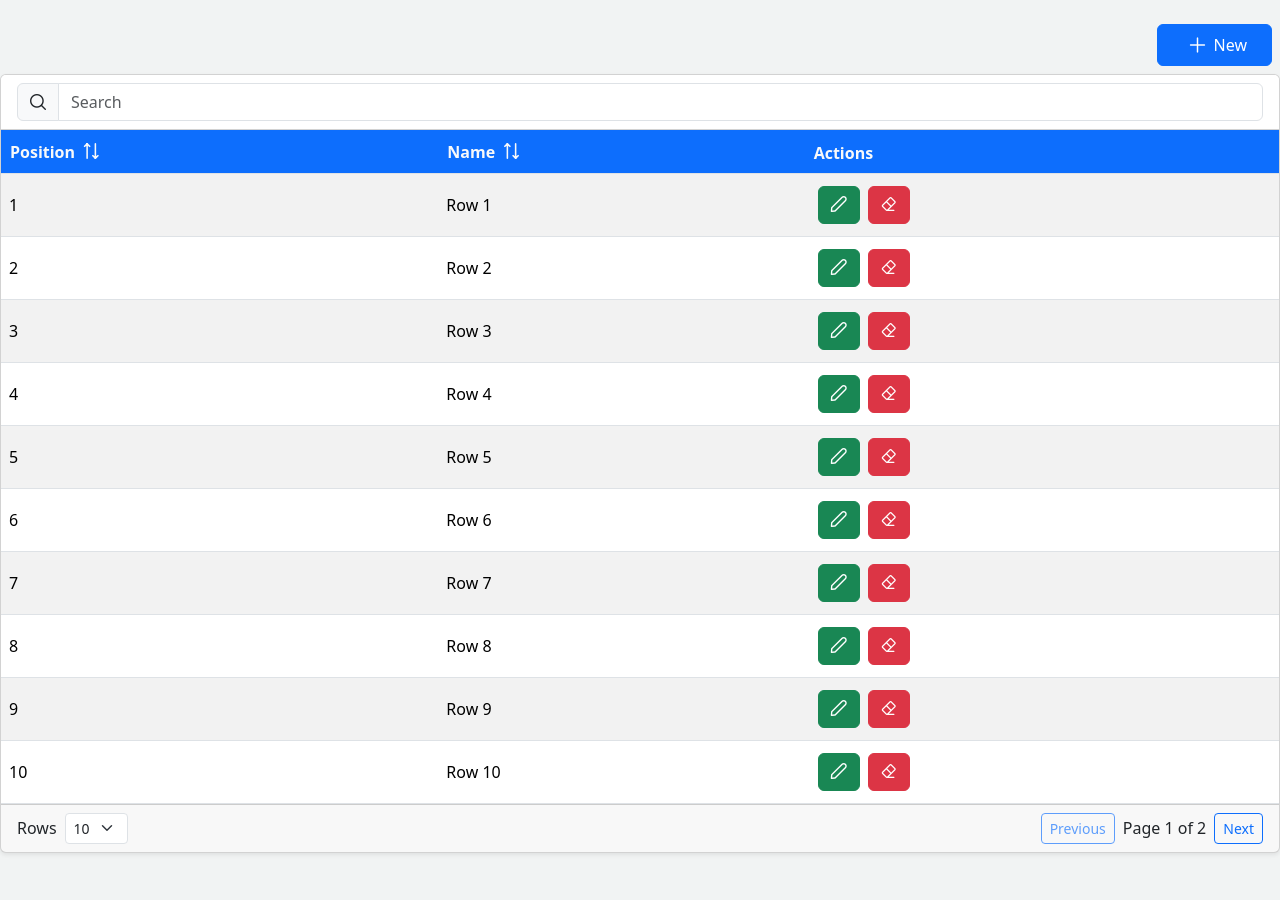
it: TableComponent › paginates and changes page size
Step 1. Click the button "Next" → (1239, 828), box [1214,813,1263,844]
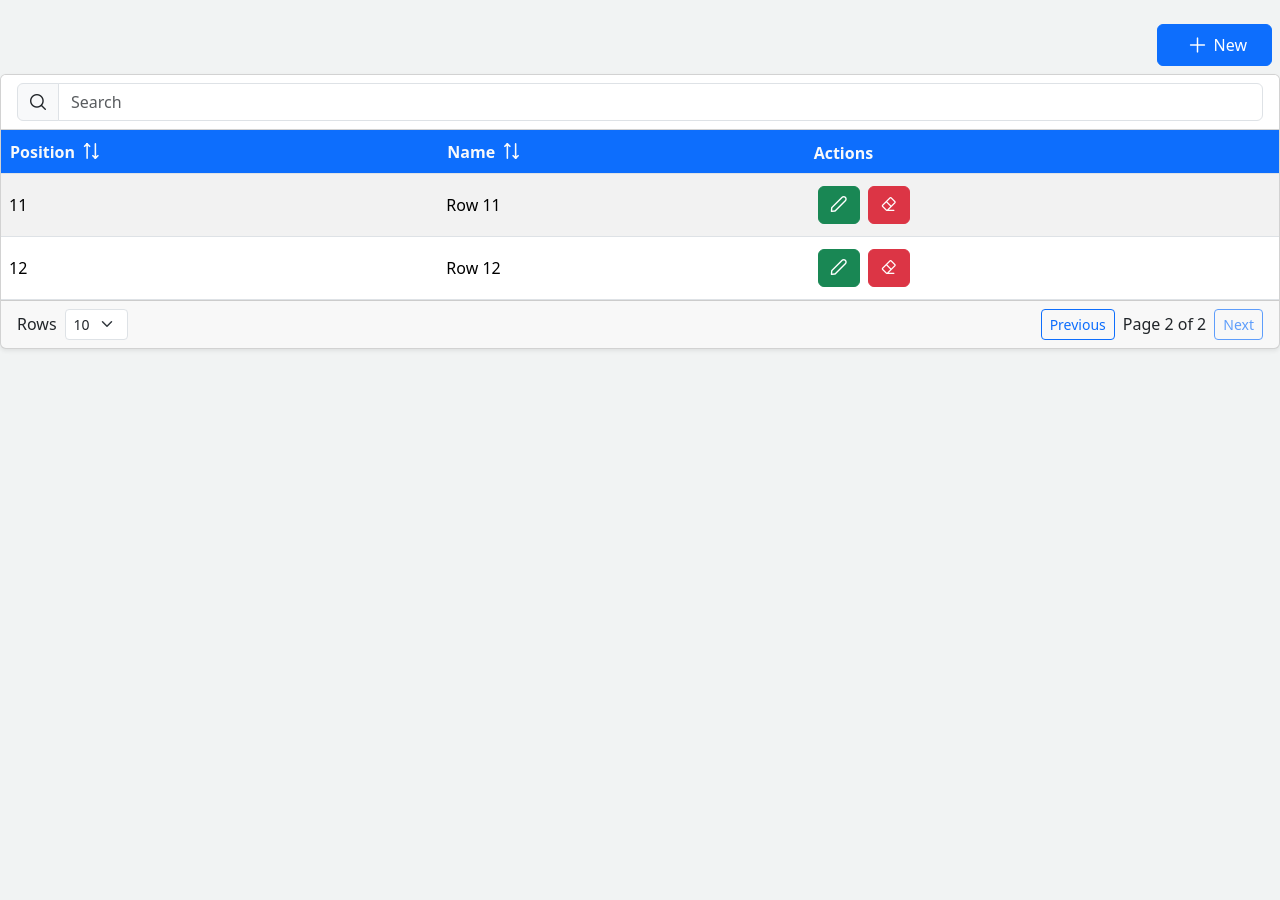
Now the text "Page 2 of 2" is shown, box [1123,312,1206,336]
Step 2. Select "5" in the dropdown labelled "Rows" → (96, 324), box [65,309,128,340]
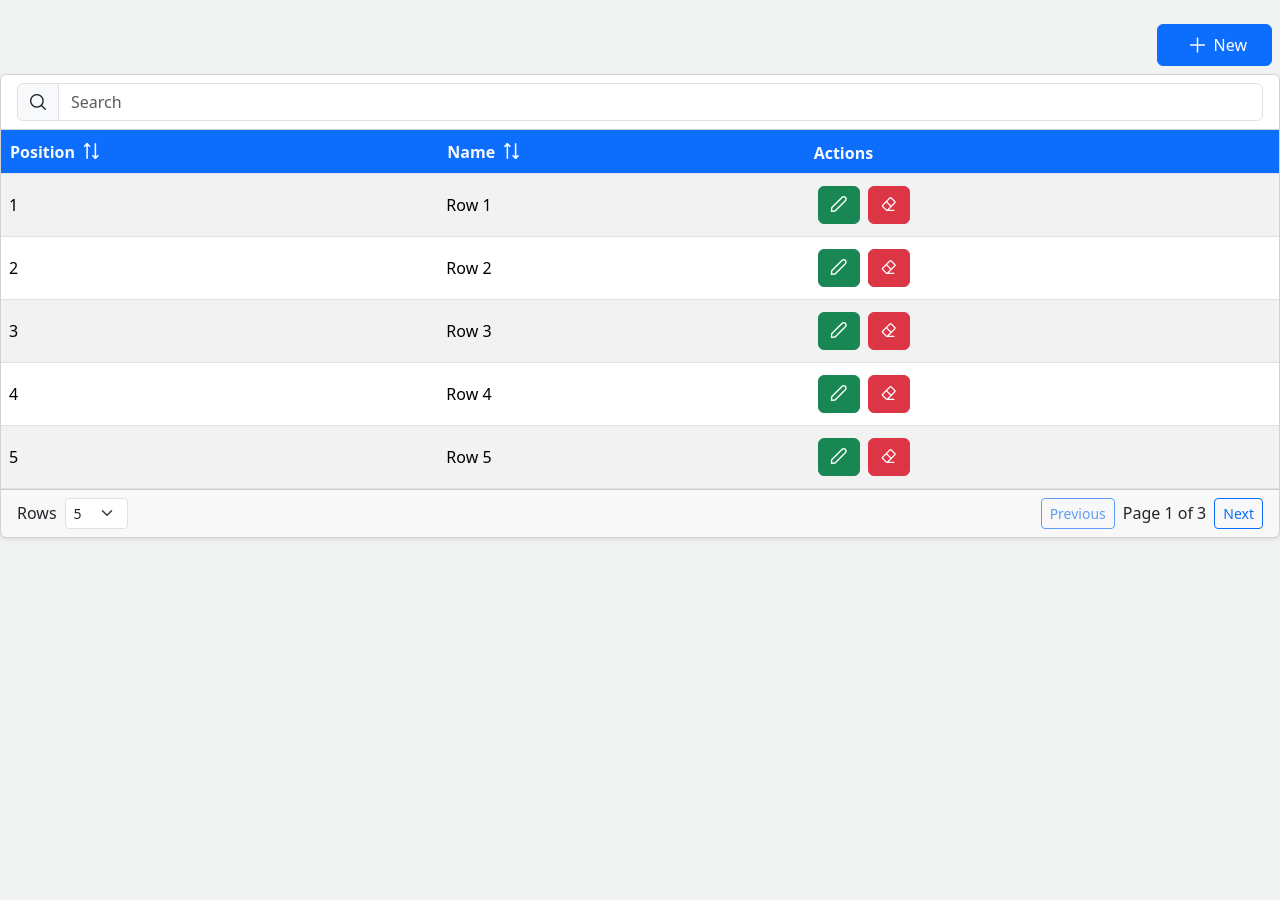
Now the text "Page 1 of 3" is shown, box [1123,501,1206,525]
